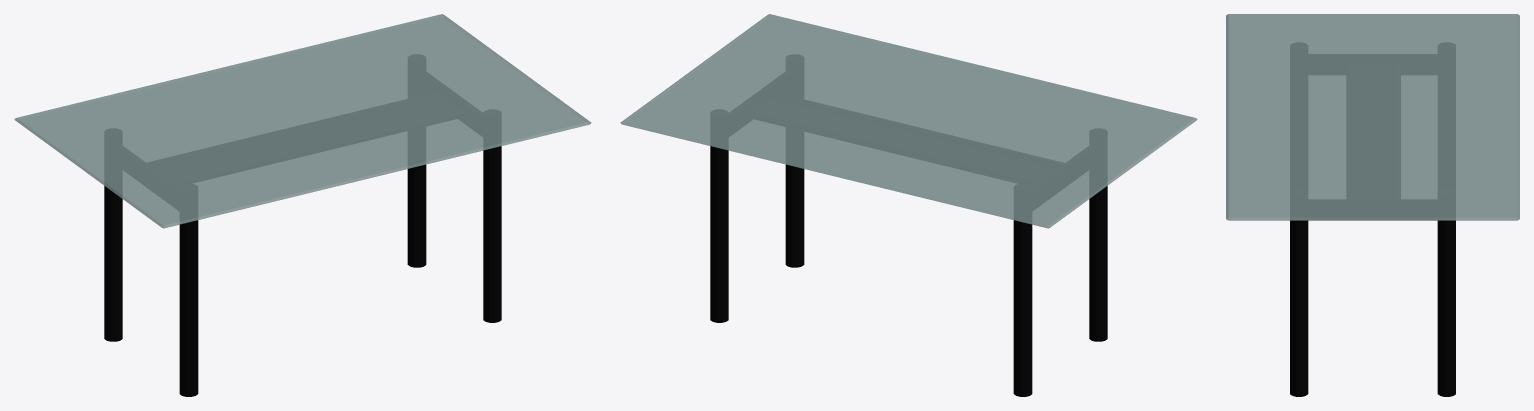
Rendered from glass-dining-table.obj.
3 renders of one model, left to right at view 1: azimuth 30°, elevation 25°; view 2: azimuth 150°, elevation 25°; view 3: azimuth 270°, elevation 25°, orthographic.
Visible parts, largest first — view 1: Glass_tabletop, Table_frame; view 2: Glass_tabletop, Table_frame; view 3: Glass_tabletop, Table_frame.
Boxes of the visible parts, left/top/right/bottom form: Glass_tabletop: left=14, top=14, right=591, bottom=228; Table_frame: left=104, top=146, right=501, bottom=396; Glass_tabletop: left=620, top=14, right=1197, bottom=228; Table_frame: left=710, top=146, right=1107, bottom=396; Glass_tabletop: left=1226, top=14, right=1519, bottom=220; Table_frame: left=1290, top=220, right=1455, bottom=396.
Size of the model in its own units: 9.91 by 4.6 by 5.98.
